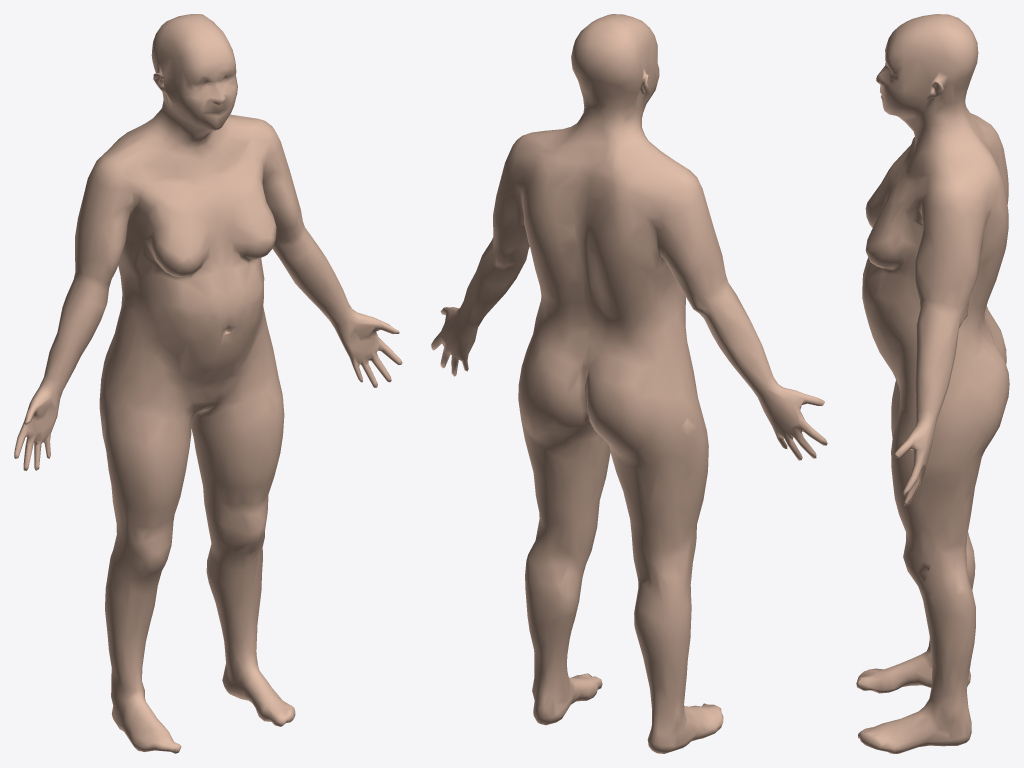
Rendered from adult_female.surface.LOD4.glb.
3 renders of one model, left to right at view 1: azimuth 30°, elevation 25°; view 2: azimuth 150°, elevation 25°; view 3: azimuth 270°, elevation 25°, orthographic. The views are drawn at different scales.
Visible parts, largest first — view 1: ADULT.FEMALE.SURFACE.SKIN; view 2: ADULT.FEMALE.SURFACE.SKIN; view 3: ADULT.FEMALE.SURFACE.SKIN.
Part boxes in pixels (box(x1,y1,x2,y2)): ADULT.FEMALE.SURFACE.SKIN: box(14, 14, 402, 753); ADULT.FEMALE.SURFACE.SKIN: box(431, 14, 827, 753); ADULT.FEMALE.SURFACE.SKIN: box(856, 14, 1009, 753).
Size of the model in its own units: 0.9679 by 1.67 by 0.3293.
